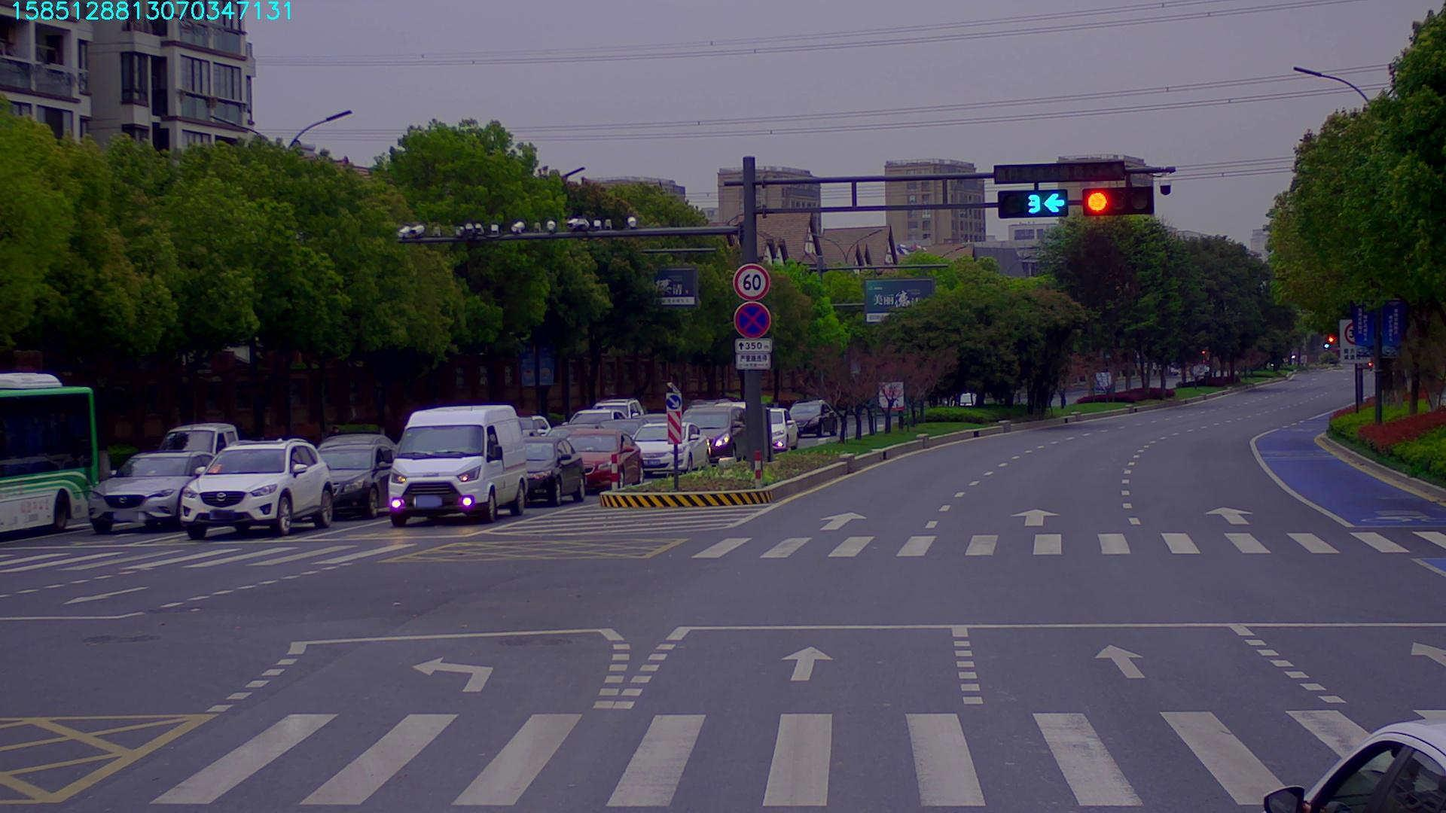green: (994, 189, 1061, 215)
red: (1081, 193, 1155, 221)
